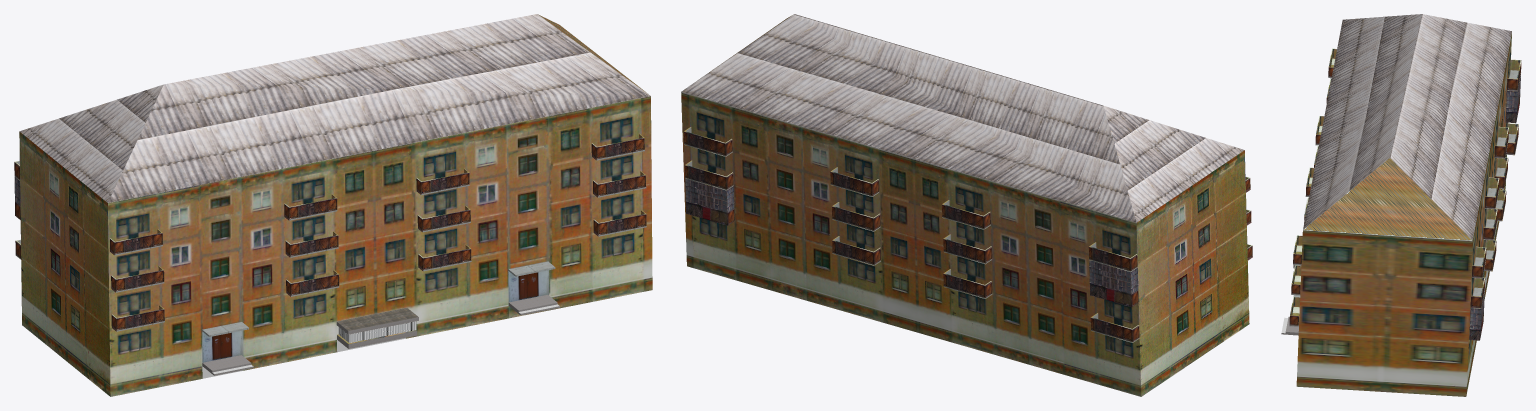
Rendered from 4 этжный дом.fbx.
3 renders of one model, left to right at view 1: azimuth 30°, elevation 25°; view 2: azimuth 150°, elevation 25°; view 3: azimuth 270°, elevation 25°, orthographic. The views are drawn at different scales.
Parts seen in each view (by area): view 1: _G-Object (Loose Mesh), G-Object.026, G-Object.001, G-Object.002, G-Object.048, G-Object.050, G-Object.046, G-Object.044, G-Object.052, G-Object.051, G-Object.049, G-Object.045 (+4 smaller); view 2: _G-Object (Loose Mesh), G-Object.014, G-Object.015, G-Object.006, G-Object.011, G-Object.016, G-Object.009, G-Object.012, G-Object.013, G-Object.004, G-Object.010, G-Object.018 (+1 smaller); view 3: _G-Object (Loose Mesh), G-Object.015, G-Object.014, G-Object.013, G-Object.016, G-Object.004, G-Object.010, G-Object.017, G-Object.012, G-Object.006, G-Object.018, G-Object.009 (+5 smaller).
Boxes of the visible parts, <box> form: _G-Object (Loose Mesh): <box>19,14,652,396</box>; G-Object.026: <box>336,308,418,348</box>; G-Object.001: <box>508,261,559,315</box>; G-Object.002: <box>202,322,253,375</box>; G-Object.048: <box>284,194,337,220</box>; G-Object.050: <box>285,231,338,257</box>; G-Object.046: <box>593,210,646,236</box>; G-Object.044: <box>111,266,164,292</box>; G-Object.052: <box>418,245,471,271</box>; G-Object.051: <box>416,168,469,195</box>; G-Object.049: <box>286,270,339,296</box>; G-Object.045: <box>591,134,644,160</box>; _G-Object (Loose Mesh): <box>681,14,1249,396</box>; G-Object.014: <box>1089,260,1138,307</box>; G-Object.015: <box>685,178,734,225</box>; G-Object.006: <box>1090,313,1139,342</box>; G-Object.011: <box>943,269,992,298</box>; G-Object.016: <box>830,167,879,196</box>; G-Object.009: <box>943,234,992,264</box>; G-Object.012: <box>684,160,733,190</box>; G-Object.013: <box>684,127,732,156</box>; G-Object.004: <box>942,200,990,229</box>; G-Object.010: <box>1088,242,1137,271</box>; G-Object.018: <box>832,236,880,265</box>; _G-Object (Loose Mesh): <box>1293,14,1511,396</box>; G-Object.015: <box>1469,290,1484,340</box>; G-Object.014: <box>1505,74,1520,123</box>; G-Object.013: <box>1471,246,1486,278</box>; G-Object.016: <box>1484,177,1499,209</box>; G-Object.004: <box>1494,126,1508,158</box>; G-Object.010: <box>1507,59,1521,91</box>; G-Object.017: <box>1483,209,1497,240</box>; G-Object.012: <box>1470,277,1485,308</box>; G-Object.006: <box>1506,123,1518,155</box>; G-Object.018: <box>1484,240,1496,271</box>; G-Object.009: <box>1494,157,1508,188</box>.
Size of the model in its own units: 3632 by 1680 by 1721.
16 materials, 15 textured.
